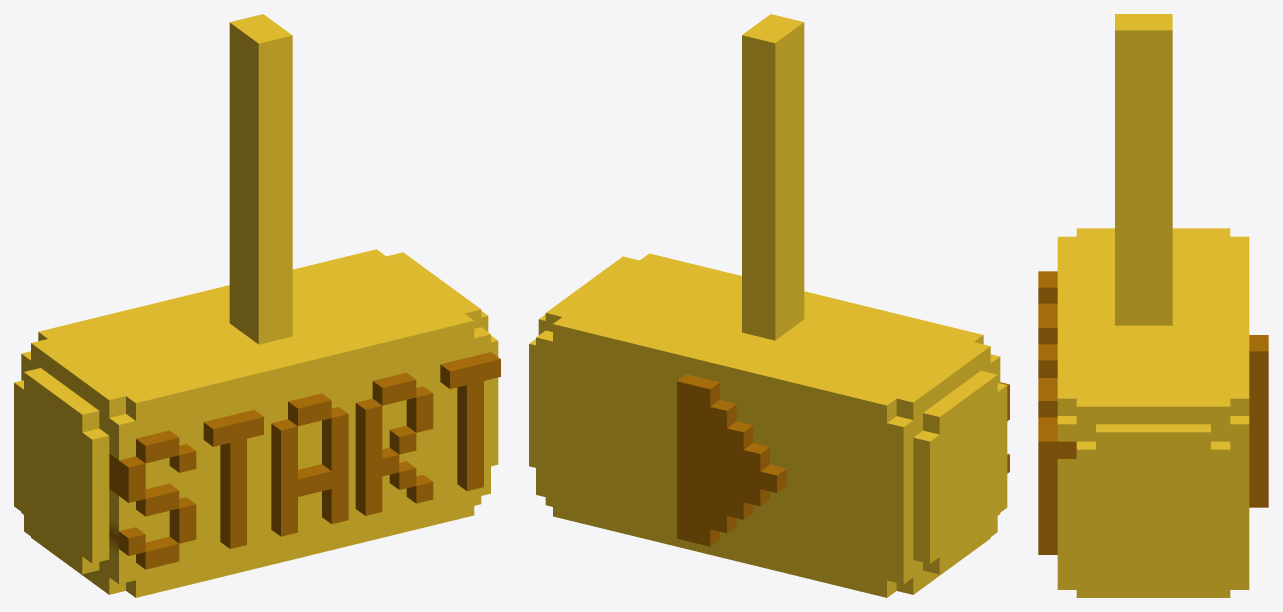
Rendered from StartButton.dae.
The picture shows the model from 3 angles, left to right: view 1: azimuth 30°, elevation 25°; view 2: azimuth 150°, elevation 25°; view 3: azimuth 270°, elevation 25°; orthographic projection.
Parts seen in each view (by area): view 1: Matrix; view 2: Matrix; view 3: Matrix.
Boxes of the visible parts, x1,y1,x2,y2 form: Matrix: (14,14,500,597); Matrix: (529,14,1009,597); Matrix: (1038,14,1268,597).
Bounding box in the file's own units: 24 × 28 × 12.
1 material, 1 textured.
